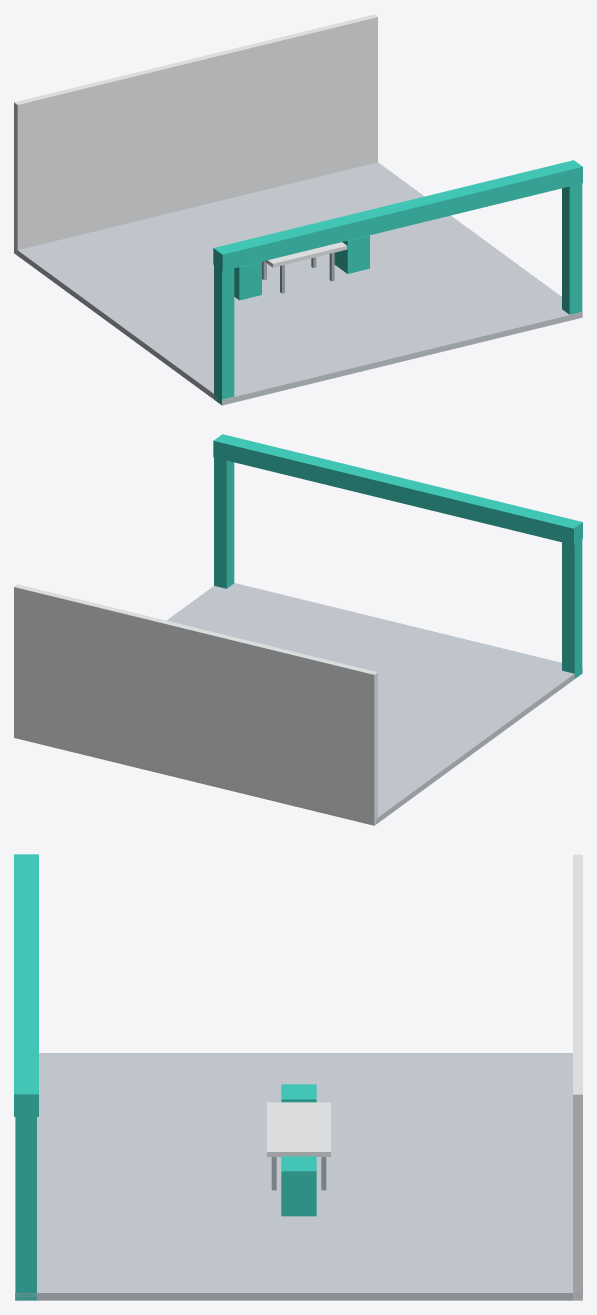
3 views of the same model, one above another, from view 1: azimuth 30°, elevation 25°; view 2: azimuth 150°, elevation 25°; view 3: azimuth 270°, elevation 25° (orthographic). The views are drawn at different scales.
Parts seen in each view (by area): view 1: Exhibition Booth Concept; view 2: Exhibition Booth Concept; view 3: Exhibition Booth Concept.
Boxes of the visible parts, <box> form: Exhibition Booth Concept: <box>14,14,582,405</box>; Exhibition Booth Concept: <box>14,434,582,825</box>; Exhibition Booth Concept: <box>14,854,582,1300</box>.
Size of the model in its own units: 8 by 3.2 by 8.01.
